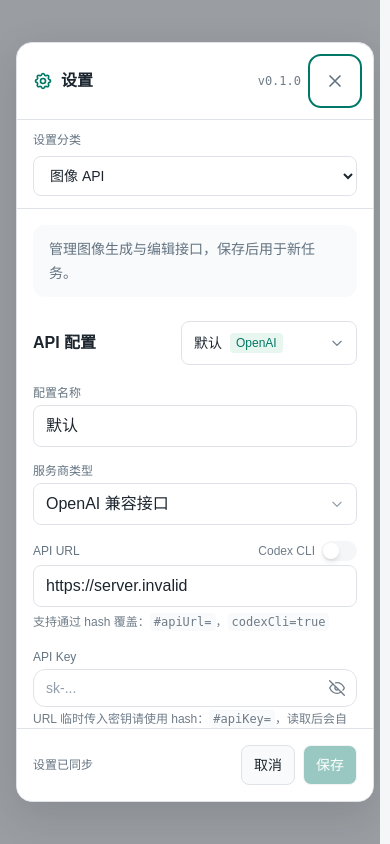
Test: SettingsModal storage stats › ignores stale storage stat refreshes from a previous settings session
The width and height of the screenshot is (390, 844).
Select "数据管理" in the dropdown labelled "设置分类". click: (195, 176)
box: 33,156 -> 357,196
Select "数据管理" in the dropdown labelled "设置分类". click: (195, 176)
box: 33,156 -> 357,196
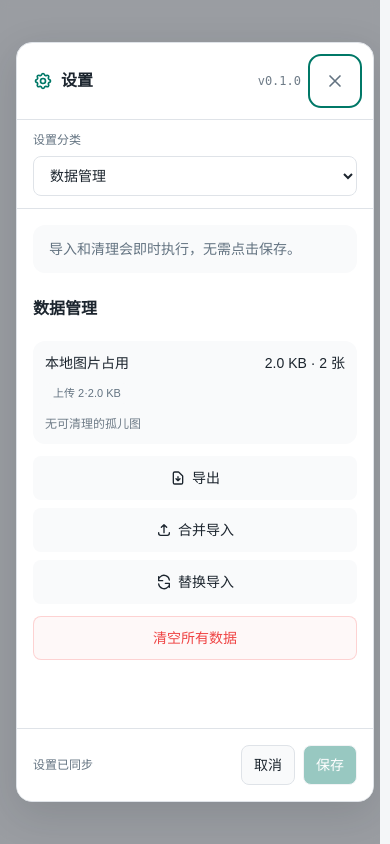
Expected: the text "正在统计本地占用…" is shown, 45,353 -> 345,373
Expected: the text "2.0 KB · 2 张" is shown, 265,353 -> 345,373
